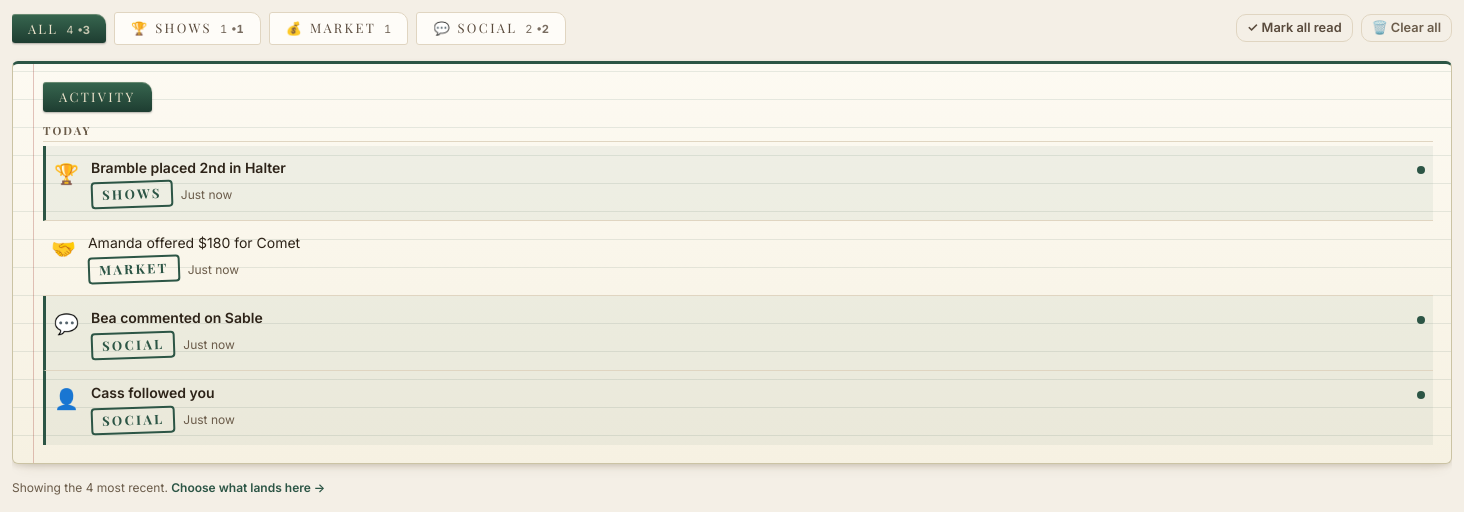
Test case: NotificationList — filtering by kind › narrows the list to one kind and back again
Click the button "💰 Market1" at {"x": 339, "y": 28}, box [269,12,408,45]
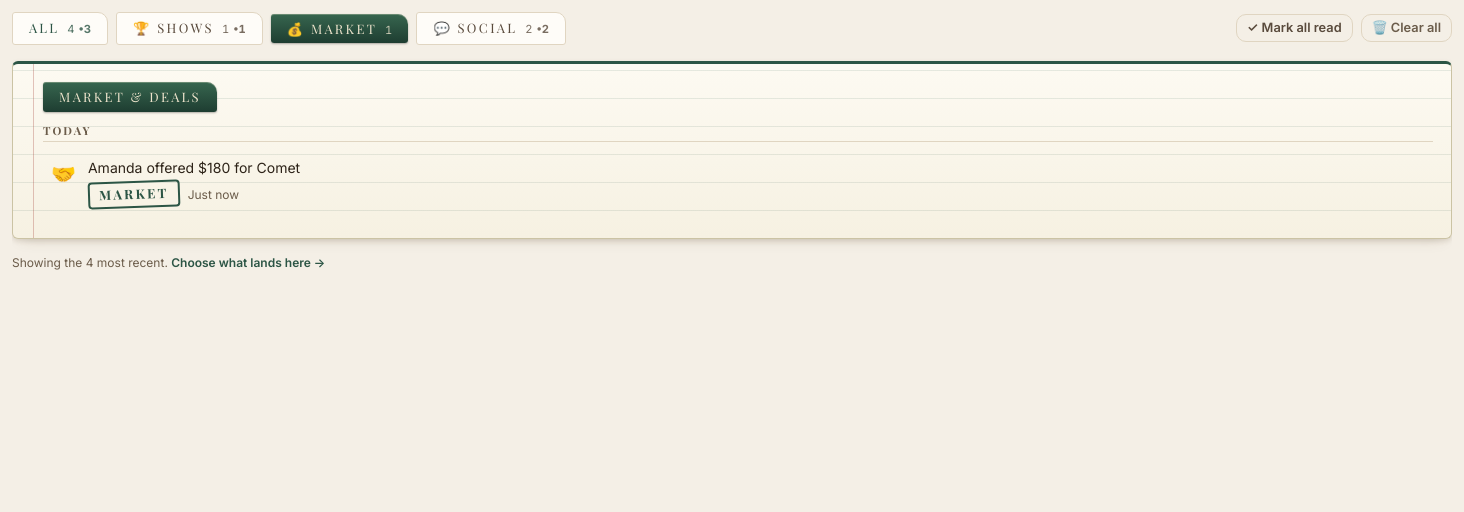
Check: the text "Amanda offered $180 for Comet" is shown, box [88,159,300,176]
Check: the link "Bramble placed 2nd in Halter" is gone
Click the button "All4•3" at {"x": 60, "y": 28}, box [12,12,108,45]
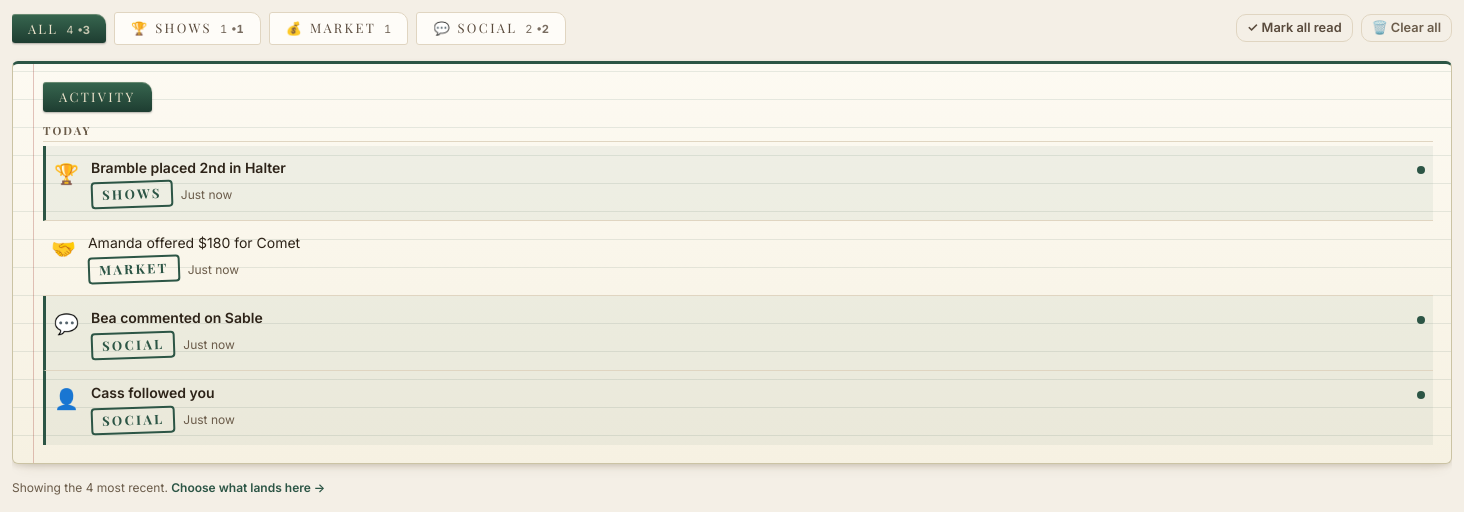
Check: the text "Bramble placed 2nd in Halter" is shown, box [91,159,286,176]
